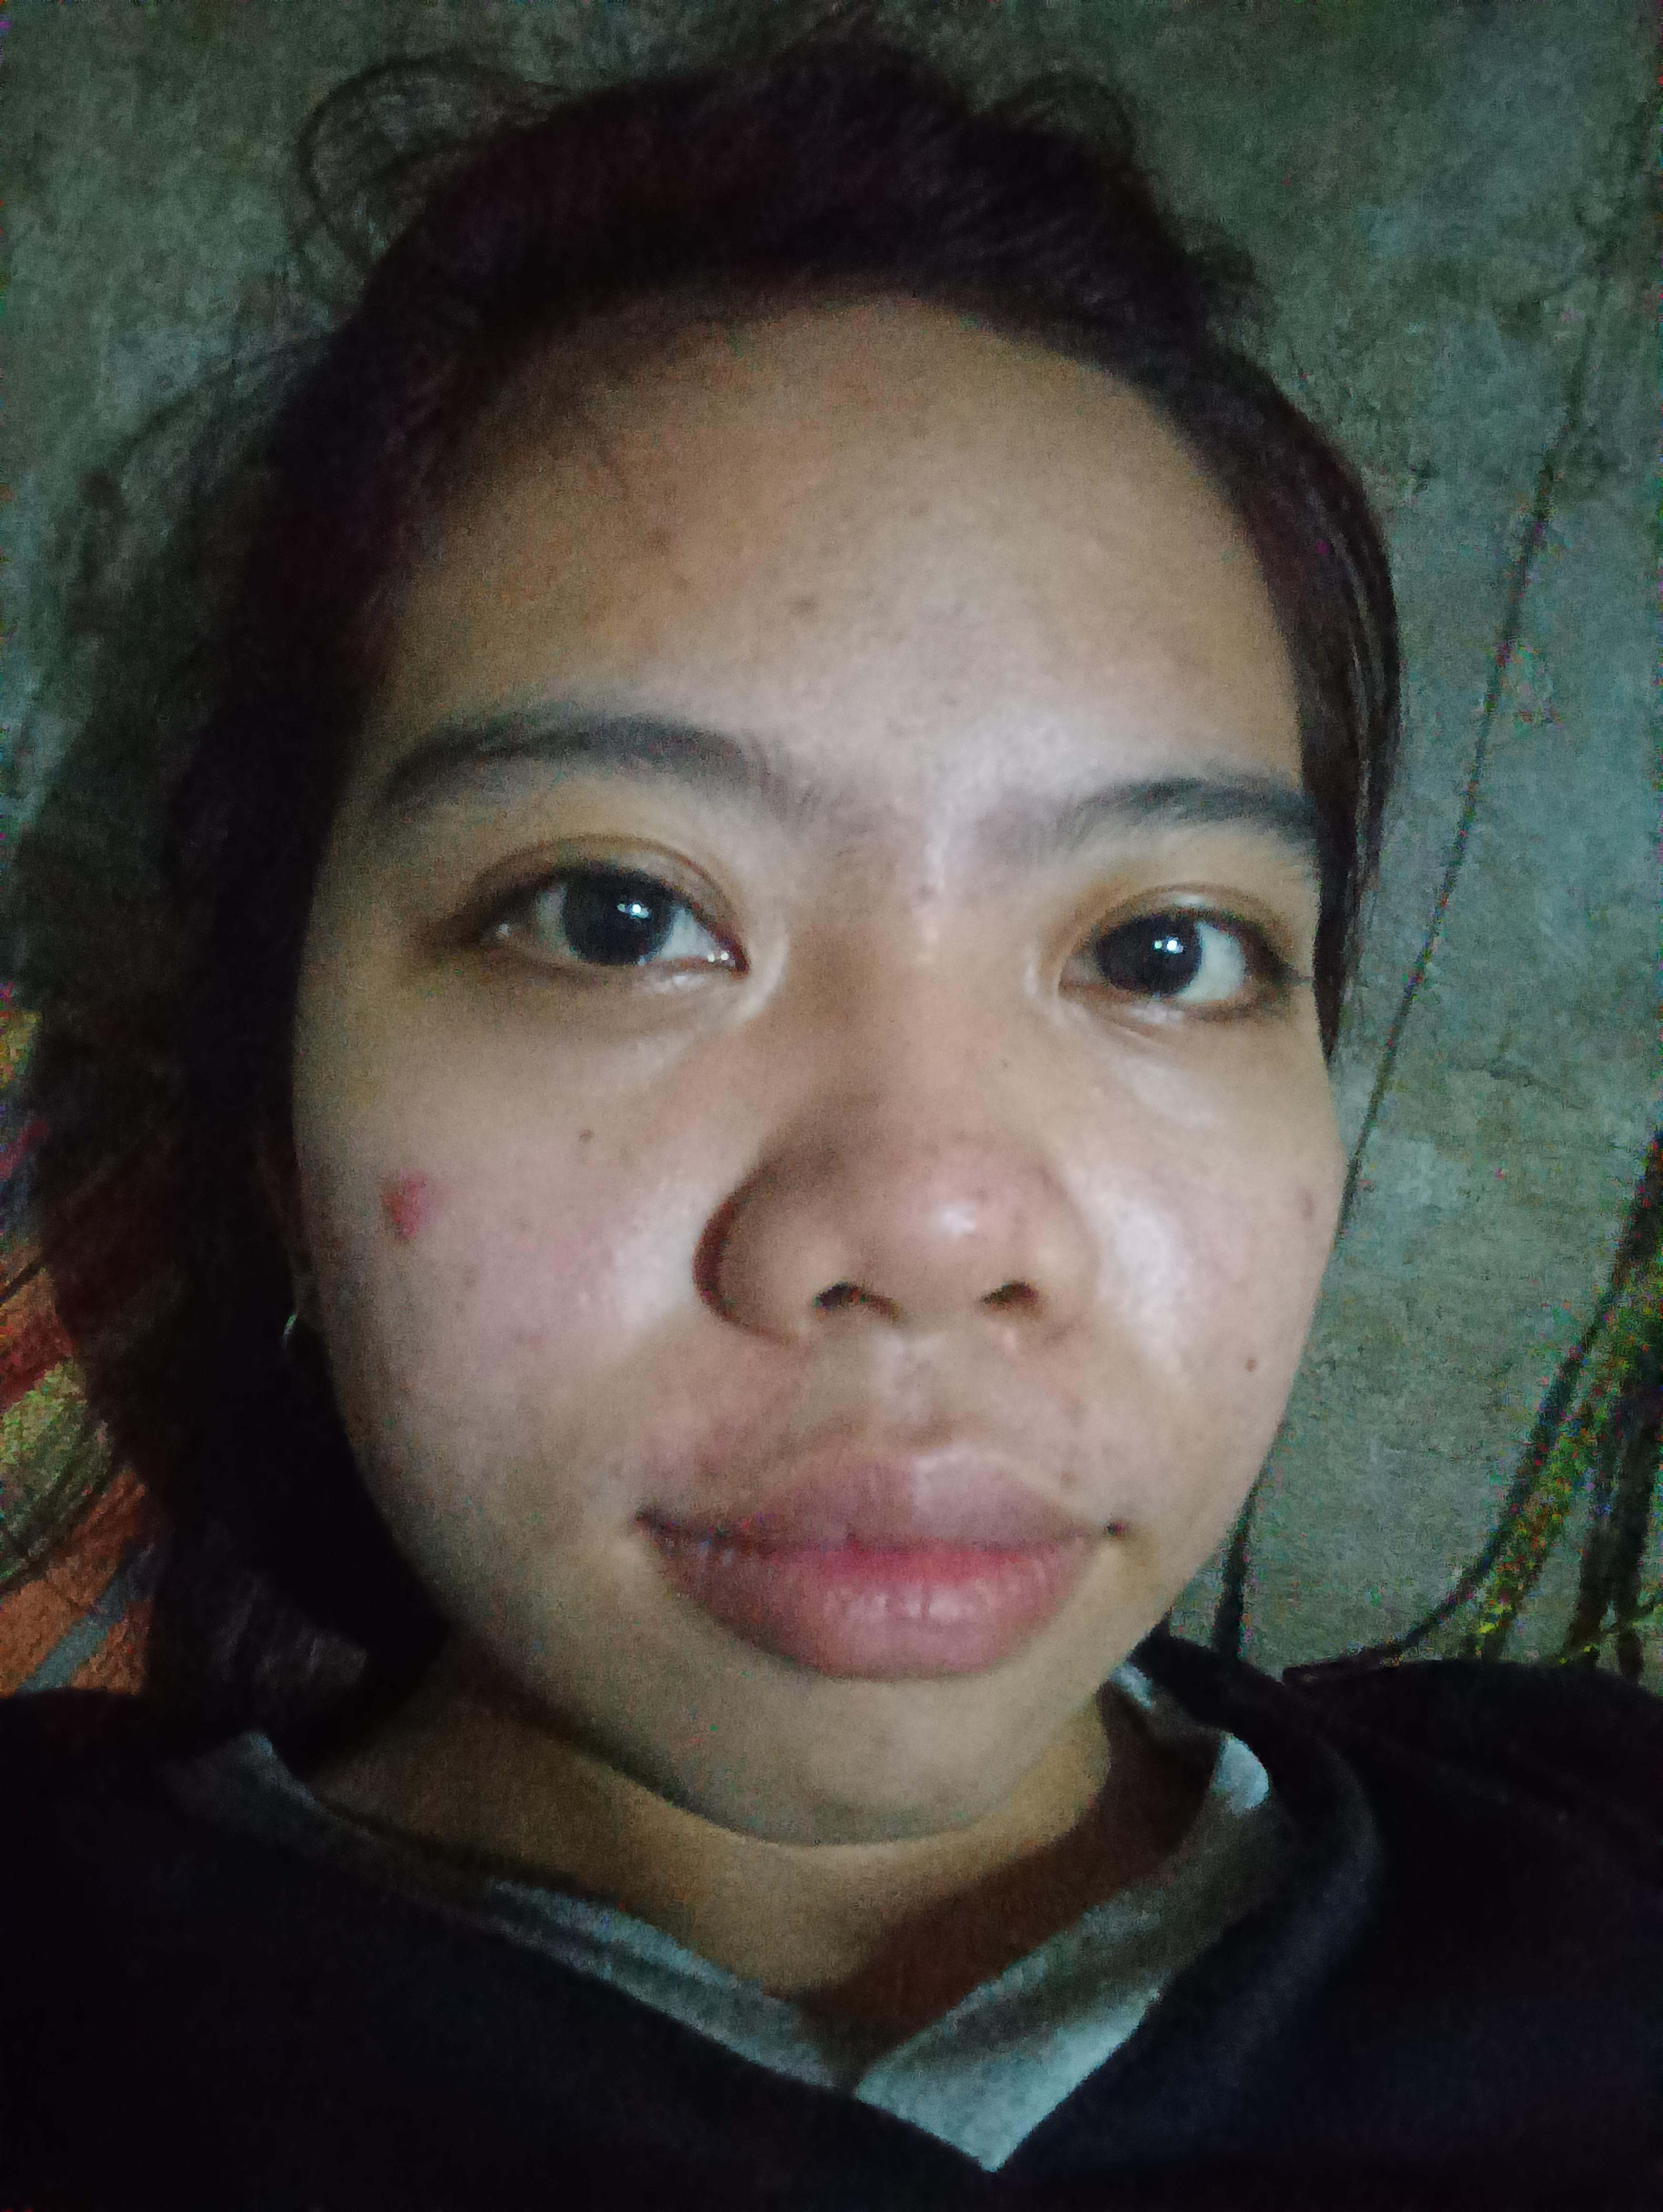Acne: (639, 522, 697, 602), (377, 1163, 428, 1252), (687, 1418, 732, 1489), (786, 588, 826, 627), (1055, 1386, 1092, 1428), (907, 876, 942, 913), (639, 520, 669, 555), (1293, 1185, 1319, 1224), (458, 1261, 486, 1295), (664, 569, 693, 601), (814, 1145, 842, 1177), (1053, 1463, 1078, 1498), (1034, 1163, 1057, 1194), (970, 1187, 994, 1206), (921, 1140, 940, 1161), (954, 1126, 971, 1147), (397, 1376, 414, 1397)
Blackheads: (823, 501, 994, 749), (493, 1192, 646, 1348), (1102, 1161, 1242, 1327)
Eyebags: (400, 936, 763, 1053), (1048, 971, 1303, 1077)
